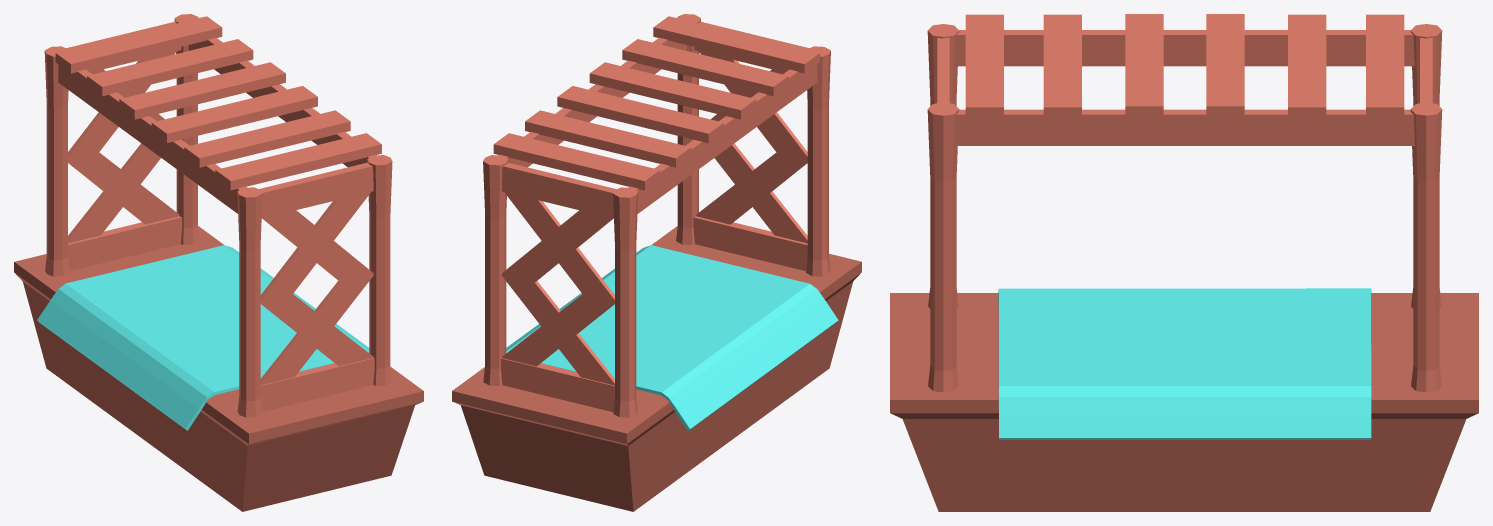
File: StandB.fbx
3 views of the same model, side by side, from view 1: azimuth 30°, elevation 25°; view 2: azimuth 150°, elevation 25°; view 3: azimuth 270°, elevation 25° (orthographic). The views are drawn at different scales.
Parts seen in each view (by area): view 1: Cube.061, Cube.063, Cube.062; view 2: Cube.061, Cube.063, Cube.062; view 3: Cube.061, Cube.063, Cube.062.
Part boxes in pixels (x1,y1,x2,y2): Cube.061: (44,14,392,417); Cube.063: (14,226,423,511); Cube.062: (37,245,369,430); Cube.061: (483,14,830,417); Cube.063: (452,226,861,511); Cube.062: (506,245,838,430); Cube.061: (927,14,1442,392); Cube.063: (890,293,1478,511); Cube.062: (998,288,1371,439).
Size of the model in its own units: 254 by 369 by 485.
